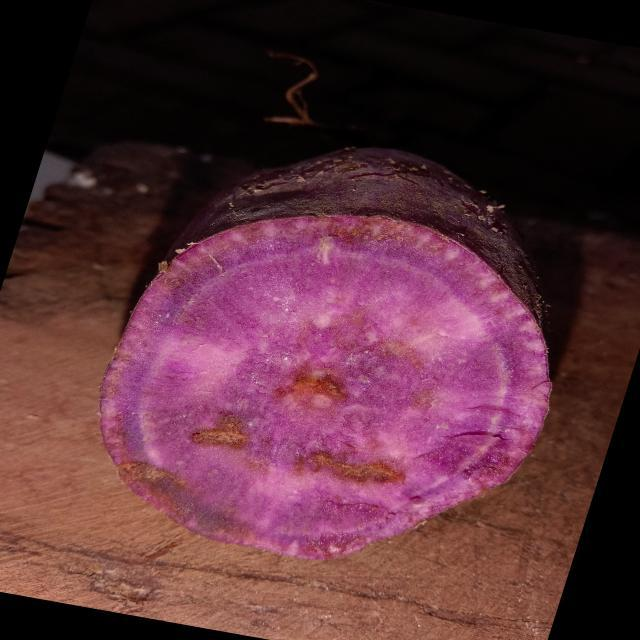Sick Sweet Potato_Tuber Rot: (100, 218, 550, 559)
